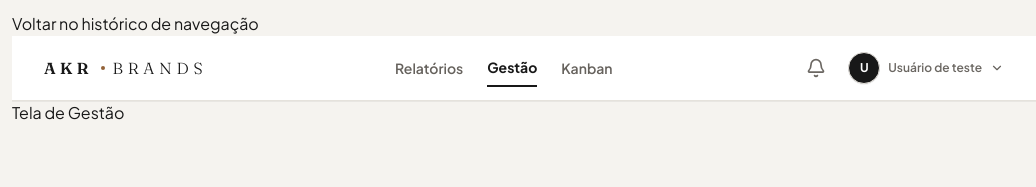
Test: Submenu horizontal de Relatórios › abre Peças diretamente pelo cabeçalho, sem expandir um menu suspenso
The image size is (1036, 187).
Click the button "Relatórios": (429,68) [395, 50, 463, 86]
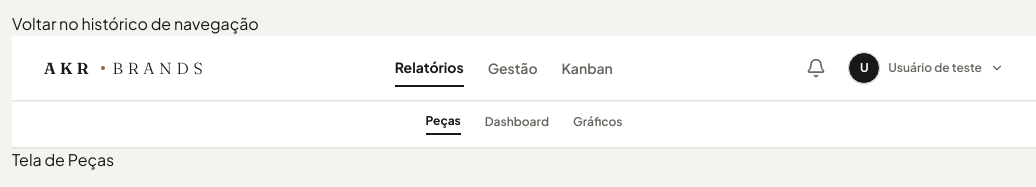
Expected: the heading "Tela de Peças" is shown, [12, 149, 114, 170]
Expected: the links read "Peças", "Dashboard", "Gráficos", in this order, [426, 113, 461, 135]; [485, 114, 549, 134]; [573, 114, 622, 134]
